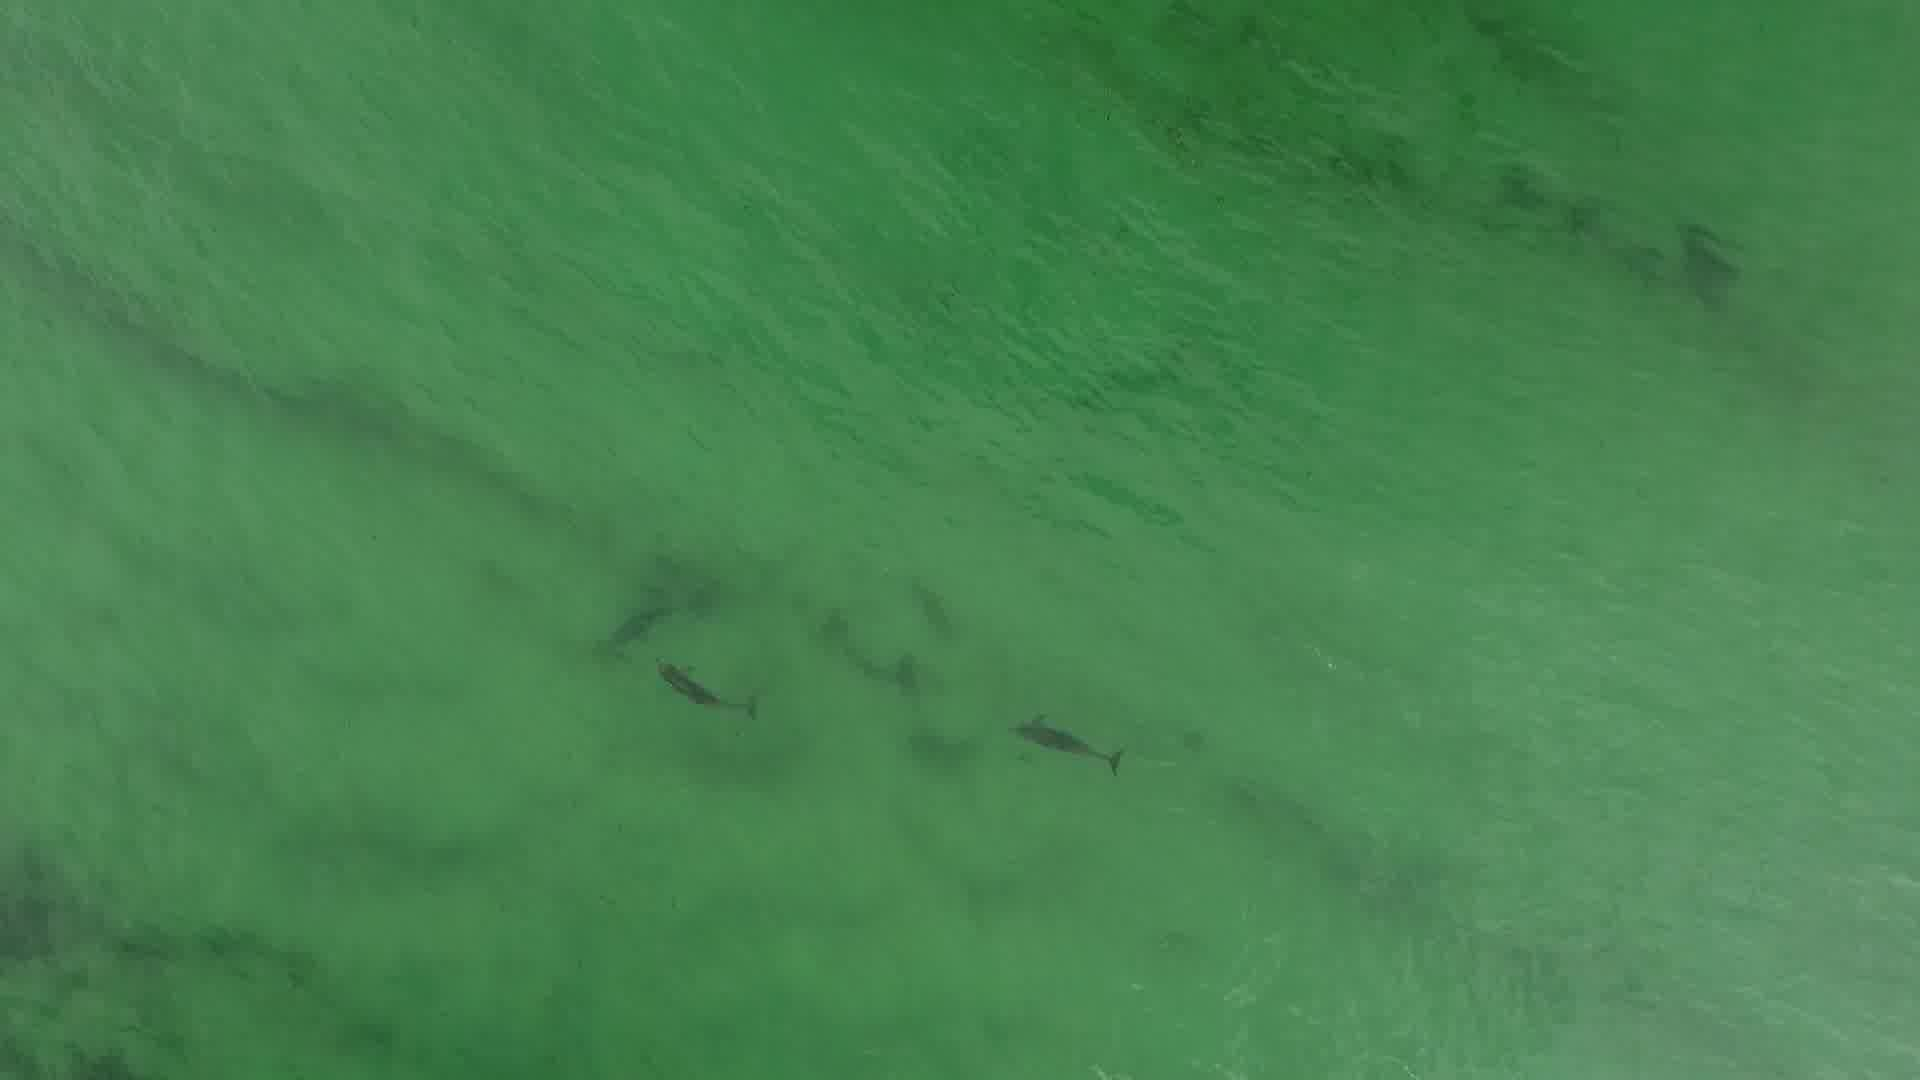dolphin: (622, 628, 775, 738), (988, 694, 1133, 787)
